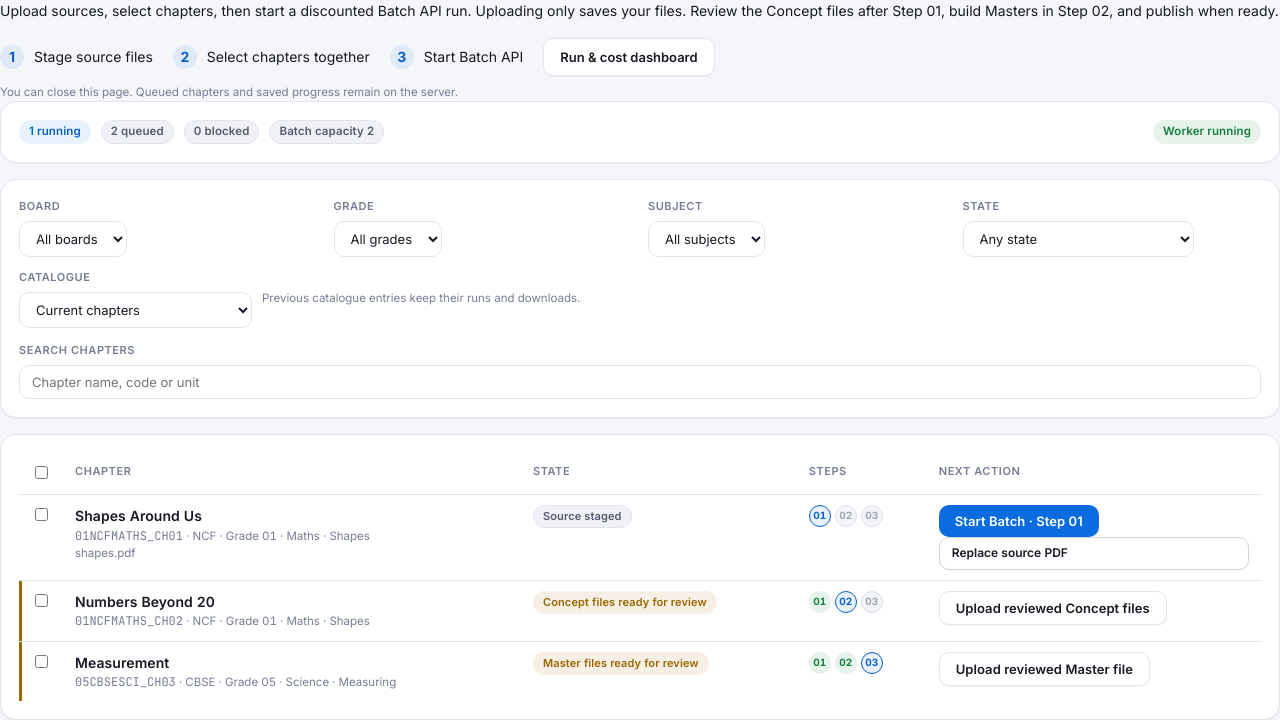
Scenario: the publish dialog names the chapters and the exact write counts
(page scrolled)
Expected: the button "Measurement" is shown, 75,652 -> 169,673
Click the checkbox named "Select Measurement" at coordinates (42, 661), box 35,654 -> 48,668
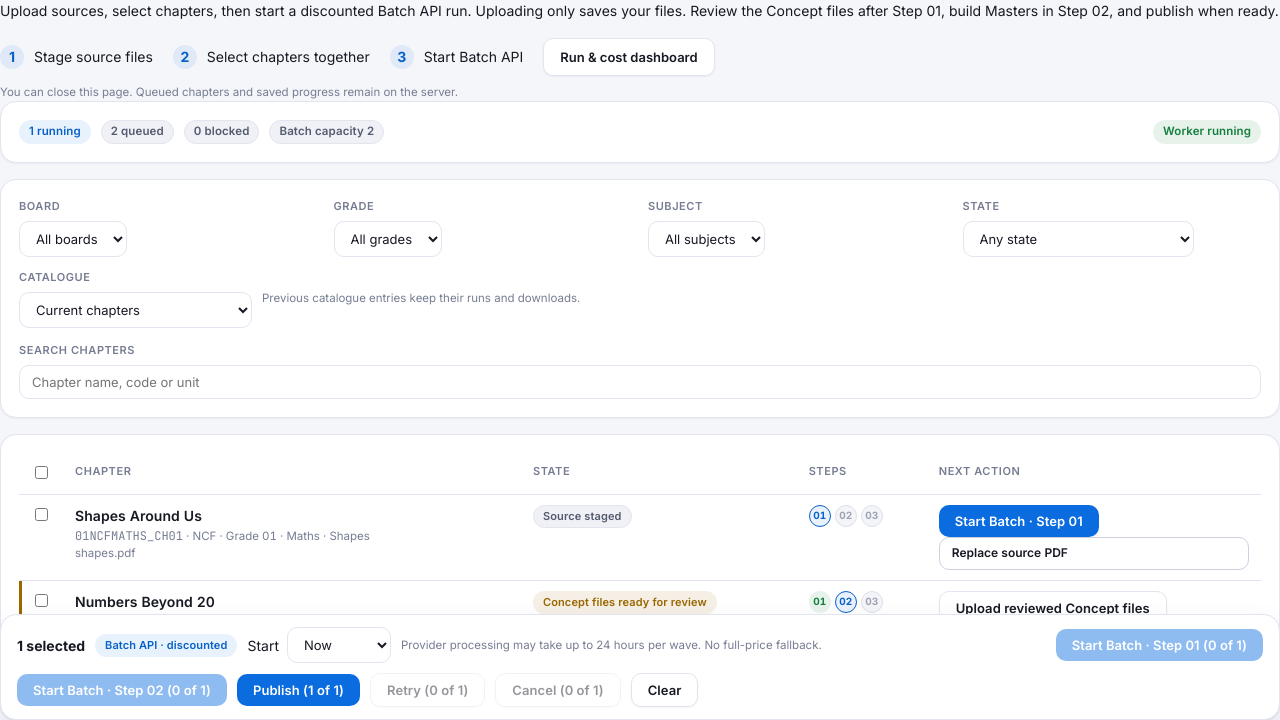
Click the button with test id "push-publish" at coordinates (299, 690), box 237,674 -> 360,706
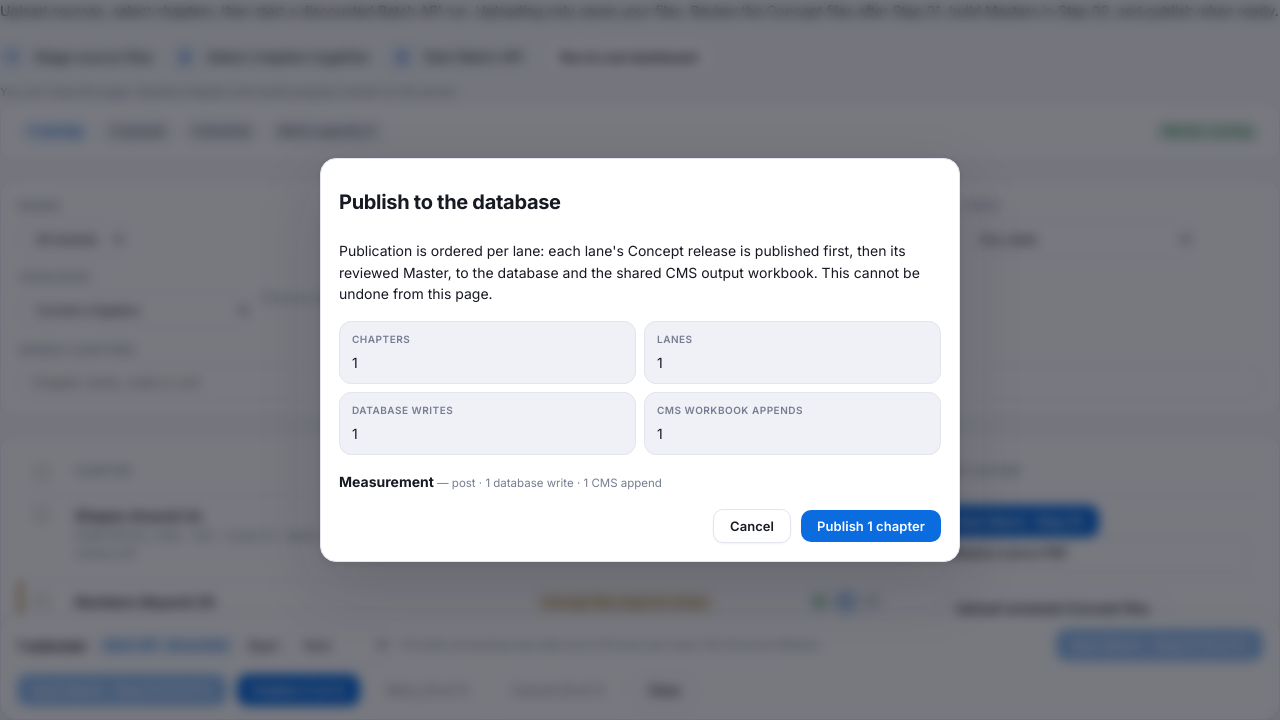
Expected: the text "Measurement" is shown, 339,473 -> 434,490
Expected: the text with test id "publish-plan-chapters" reads "1", 352,354 -> 358,370
Expected: the text with test id "publish-plan-lanes" reads "1", 657,354 -> 663,370
Click the button with test id "chapter-publish-confirm" at coordinates (871, 526), box 801,510 -> 941,542
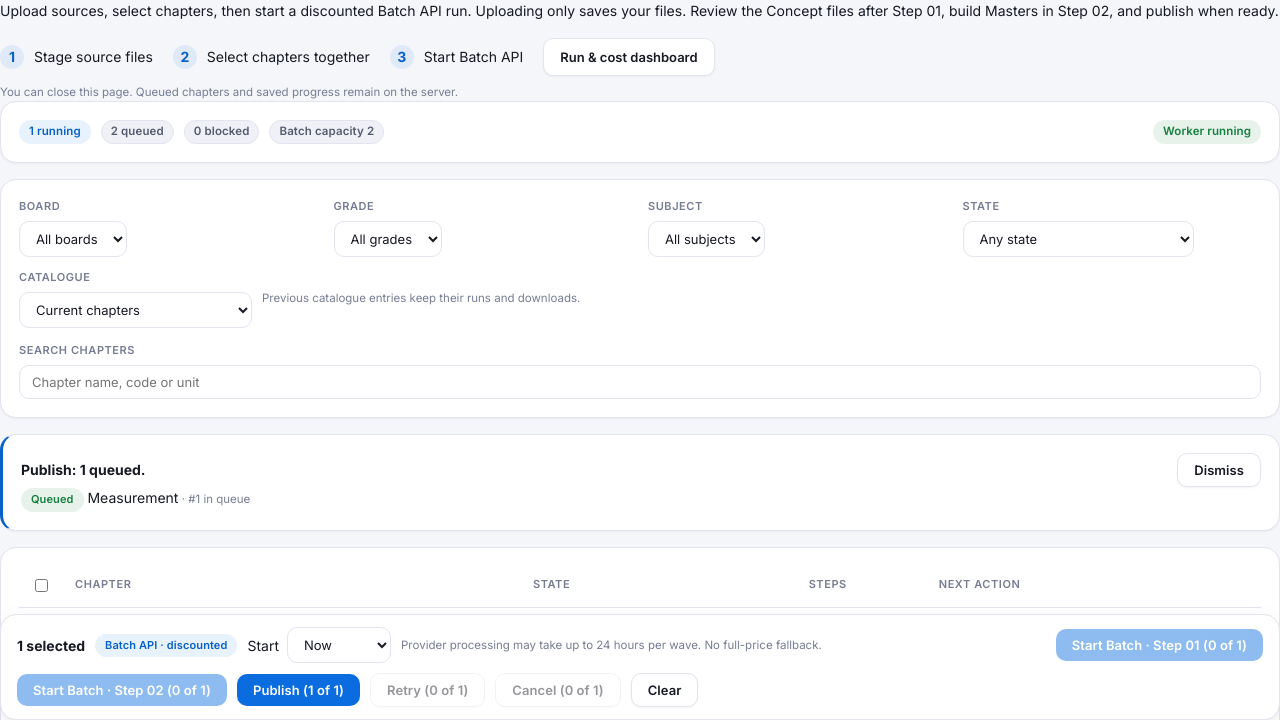
Expected: the dialog with test id "chapter-publish-dialog" is gone
